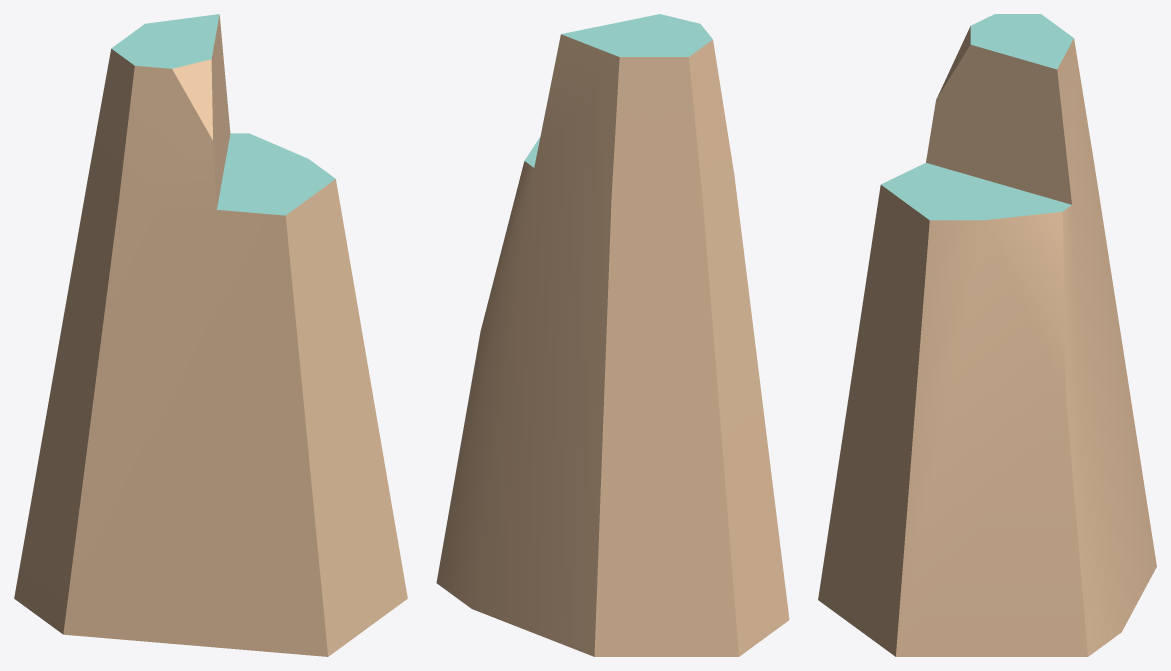
File: rock_tall9.glb
The picture shows the model from 3 angles, left to right: view 1: azimuth 30°, elevation 25°; view 2: azimuth 150°, elevation 25°; view 3: azimuth 270°, elevation 25°; orthographic projection. The views are drawn at different scales.
Parts seen in each view (by area): view 1: rock_tall9; view 2: rock_tall9; view 3: rock_tall9.
Part boxes in pixels (x1,y1,x2,y2): rock_tall9: (14, 14, 407, 656); rock_tall9: (436, 14, 789, 656); rock_tall9: (818, 14, 1156, 656).
Size of the model in its own units: 0.4562 by 0.8118 by 0.4644.
